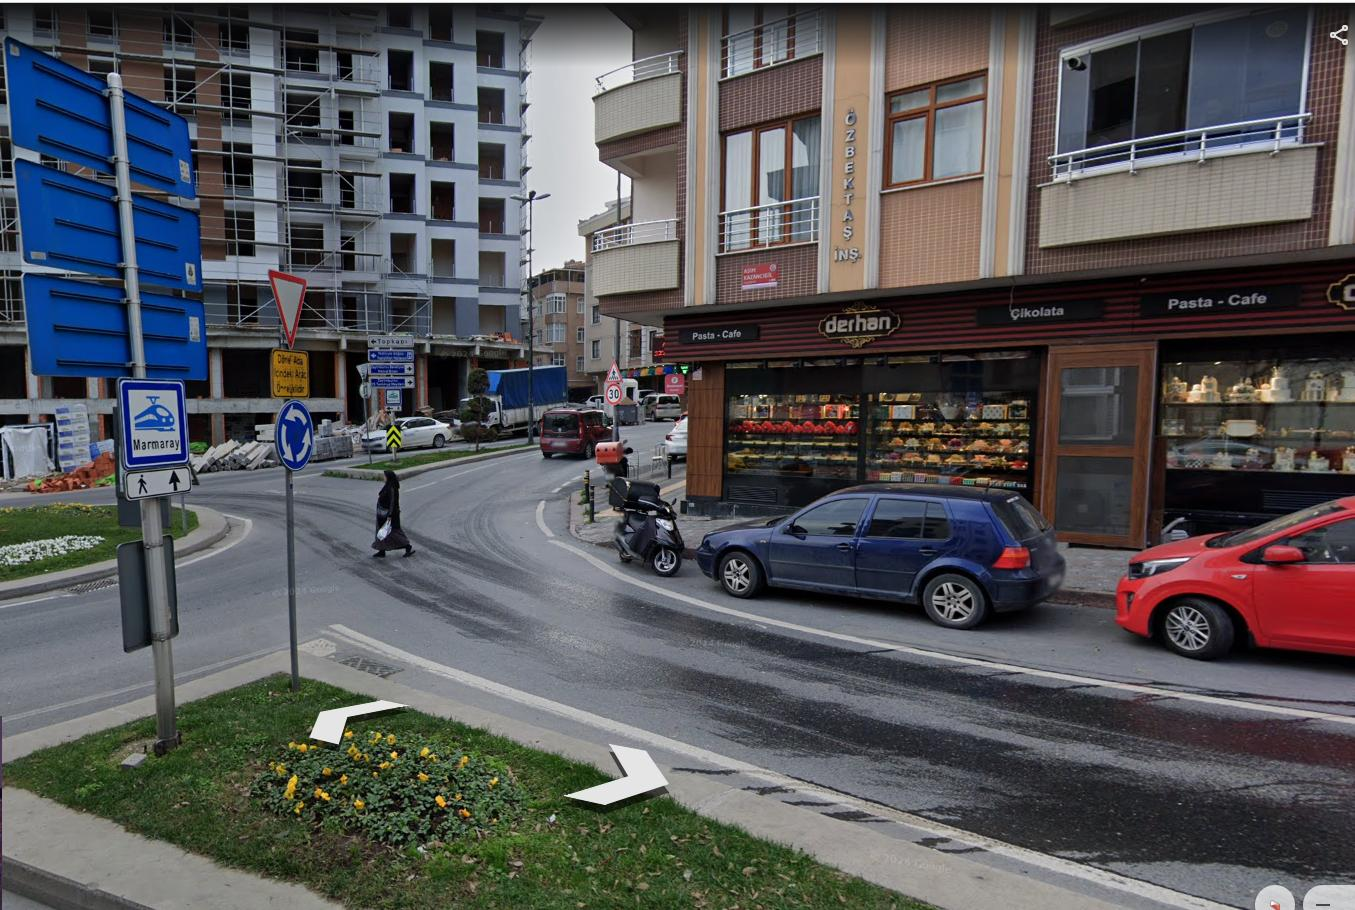crossroads: (273, 398, 315, 473)
